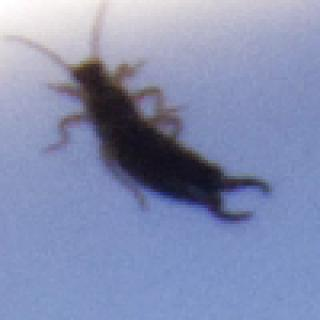earwig: (4, 2, 273, 228)
